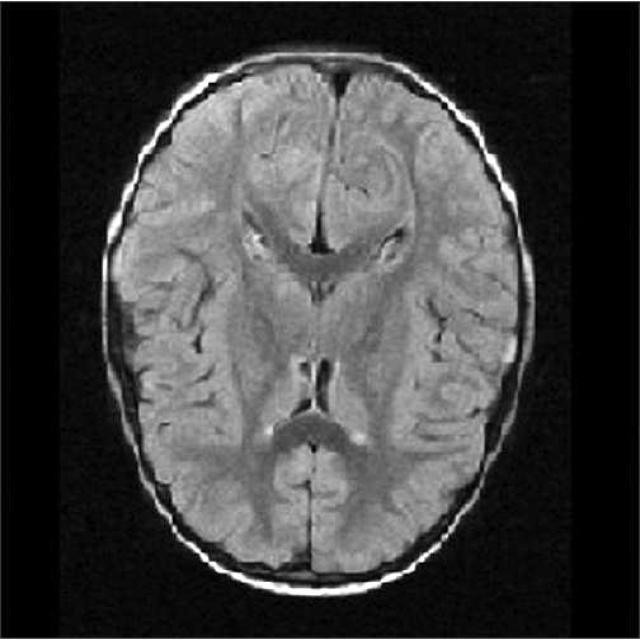notumor: (102, 52, 533, 596)
